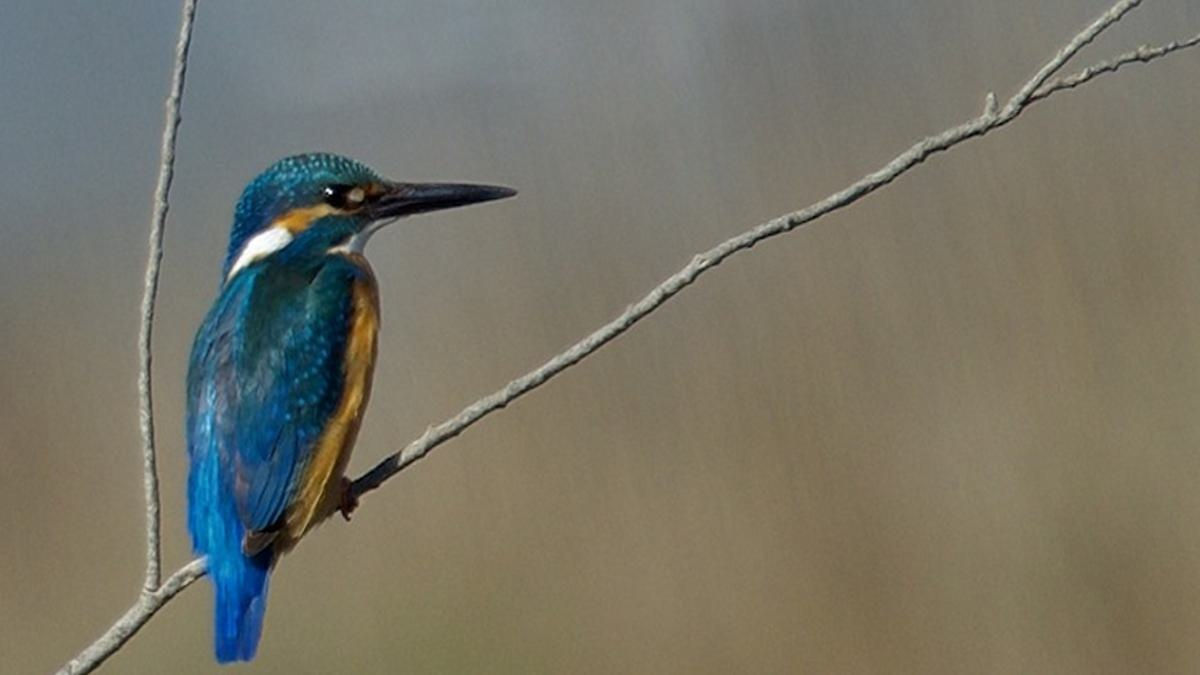kingfisher: (124, 142, 528, 658)
